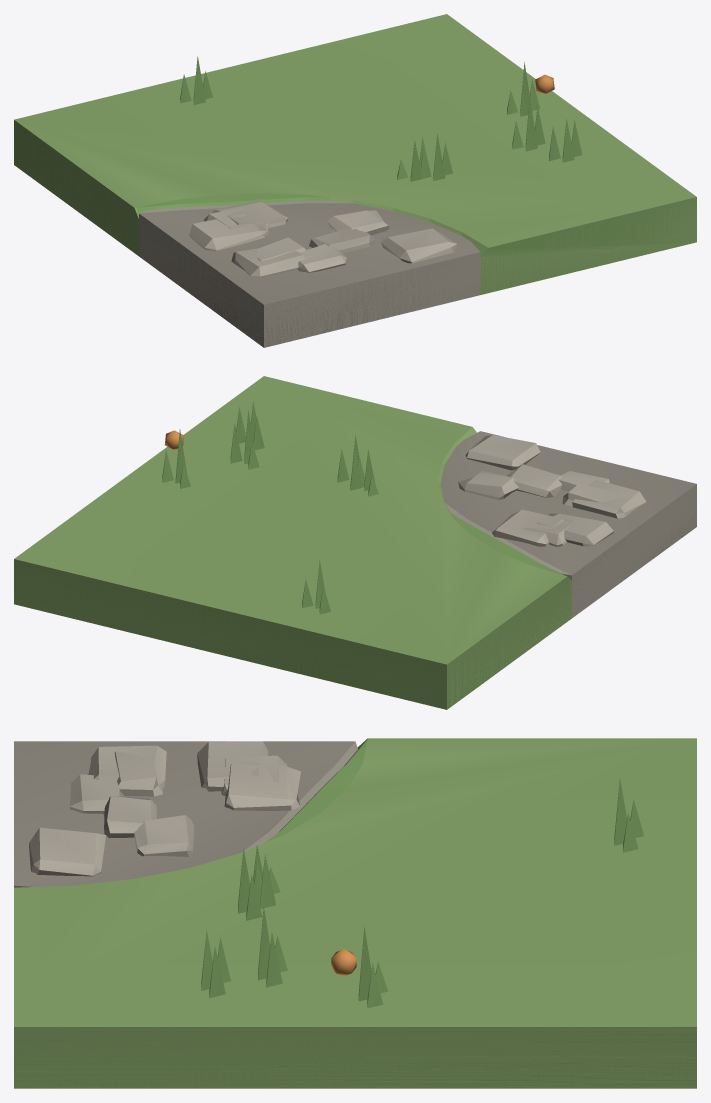
Rendered from terrain.cobble.outer.glb.
The picture shows the model from 3 angles, top to bottom: view 1: azimuth 30°, elevation 25°; view 2: azimuth 150°, elevation 25°; view 3: azimuth 270°, elevation 25°; orthographic projection. The views are drawn at different scales.
Parts seen in each view (by area): view 1: terrain.cobble.outer.v0.mesh, terrain.cobble.outer.v1.mesh, terrain.cobble.outer.v2.mesh; view 2: terrain.cobble.outer.v0.mesh, terrain.cobble.outer.v1.mesh, terrain.cobble.outer.v2.mesh; view 3: terrain.cobble.outer.v0.mesh, terrain.cobble.outer.v1.mesh, terrain.cobble.outer.v2.mesh.
Part boxes in pixels (box(x1,y1,x2,y2)): terrain.cobble.outer.v0.mesh: box(14, 14, 696, 347); terrain.cobble.outer.v1.mesh: box(14, 119, 696, 347); terrain.cobble.outer.v2.mesh: box(14, 56, 686, 347); terrain.cobble.outer.v0.mesh: box(14, 376, 696, 709); terrain.cobble.outer.v1.mesh: box(14, 401, 696, 709); terrain.cobble.outer.v2.mesh: box(26, 410, 696, 709); terrain.cobble.outer.v0.mesh: box(14, 738, 696, 1088); terrain.cobble.outer.v1.mesh: box(14, 739, 696, 1088); terrain.cobble.outer.v2.mesh: box(14, 741, 696, 1088).
Size of the model in its own units: 1 by 0.2166 by 1.
